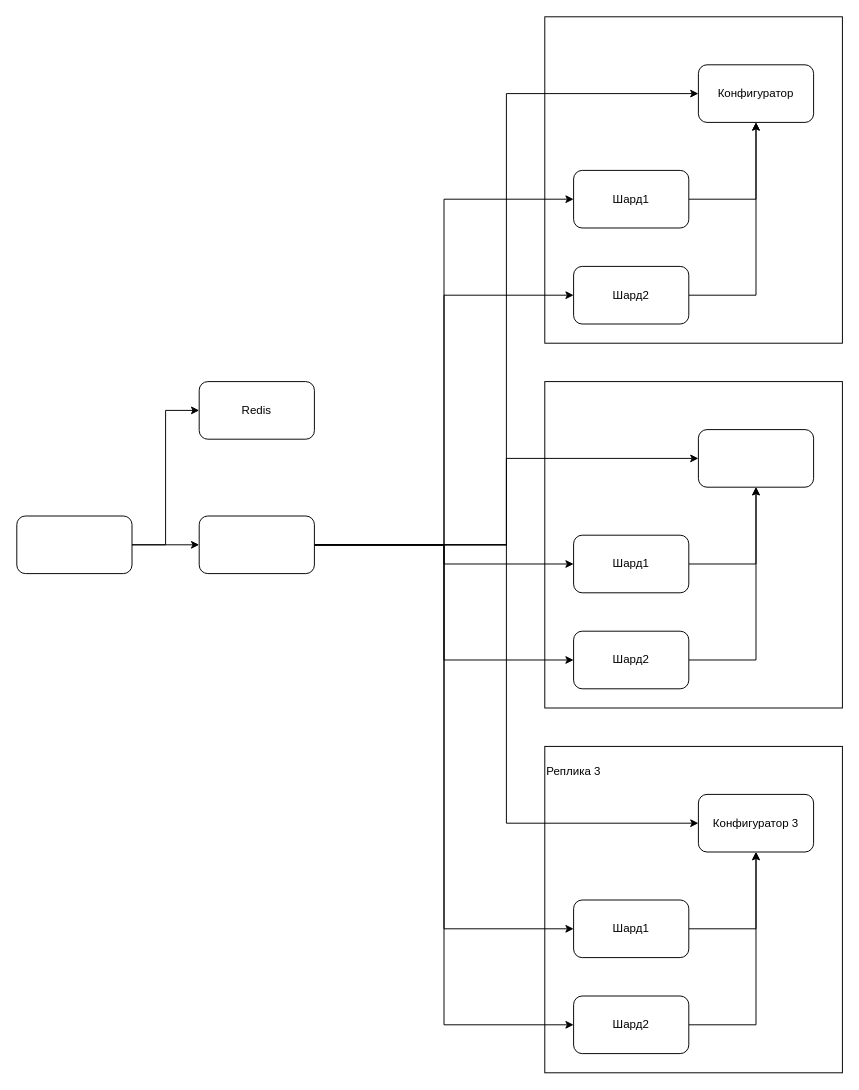
The diagram is 859 pixels wide and 1090 high, and some of its shapes have lost their labels. Each missing label, with the box of its shape:
pymongo-api: (16, 515, 132, 574)
Конфигуратор 2: (697, 429, 814, 487)
Реплика 1: (544, 16, 842, 343)
Реплика 2: (544, 381, 842, 708)
Роутер: (198, 515, 314, 574)
